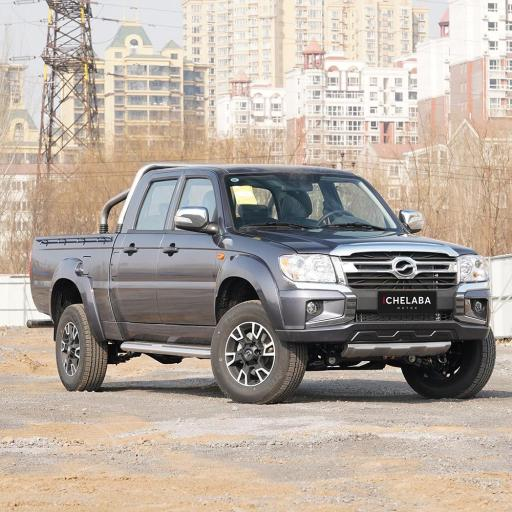pickup: (28, 160, 496, 404)
